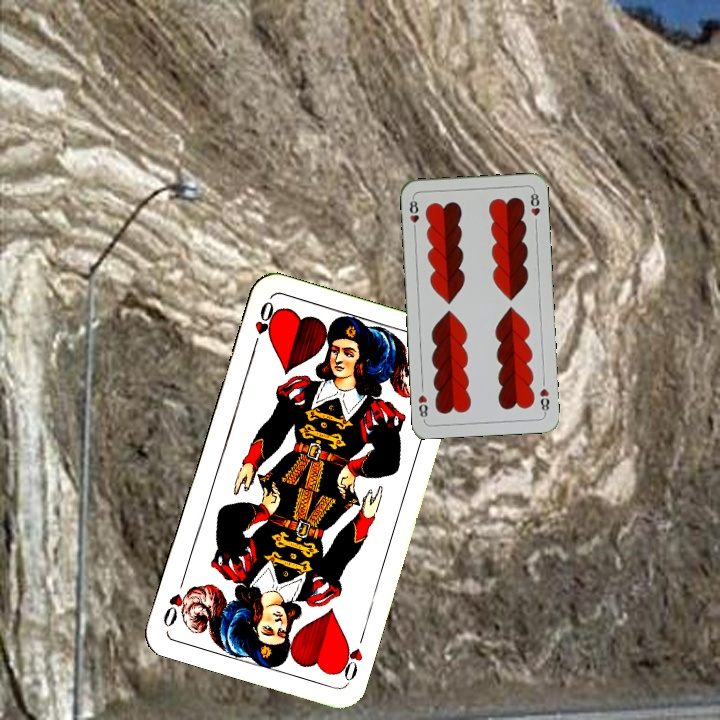H8: (405, 194, 421, 234), (535, 384, 552, 416)
HO: (334, 628, 368, 685), (248, 297, 277, 354)
